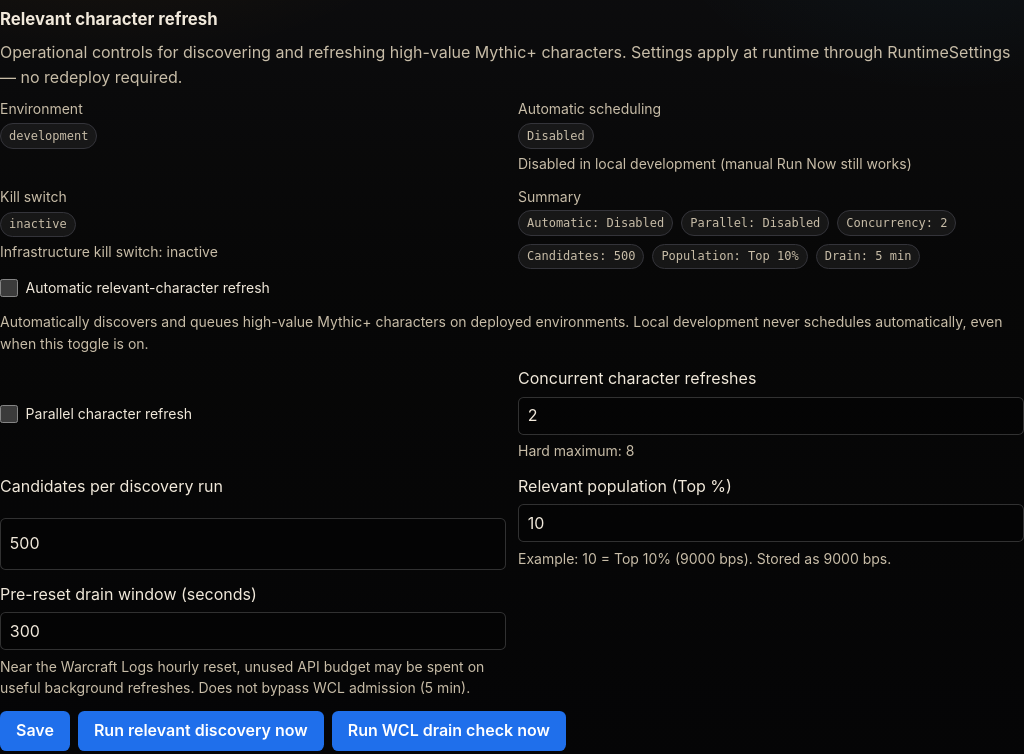
Test: RelevantCharacterRefreshPanel › queues relevant discovery now via admin Run Now
The width and height of the screenshot is (1024, 754).
(page scrolled)
Step 1. Click the button with test id "run-relevant-discovery-button" → point(201, 731), box [78,711,324,751]
(page scrolled)
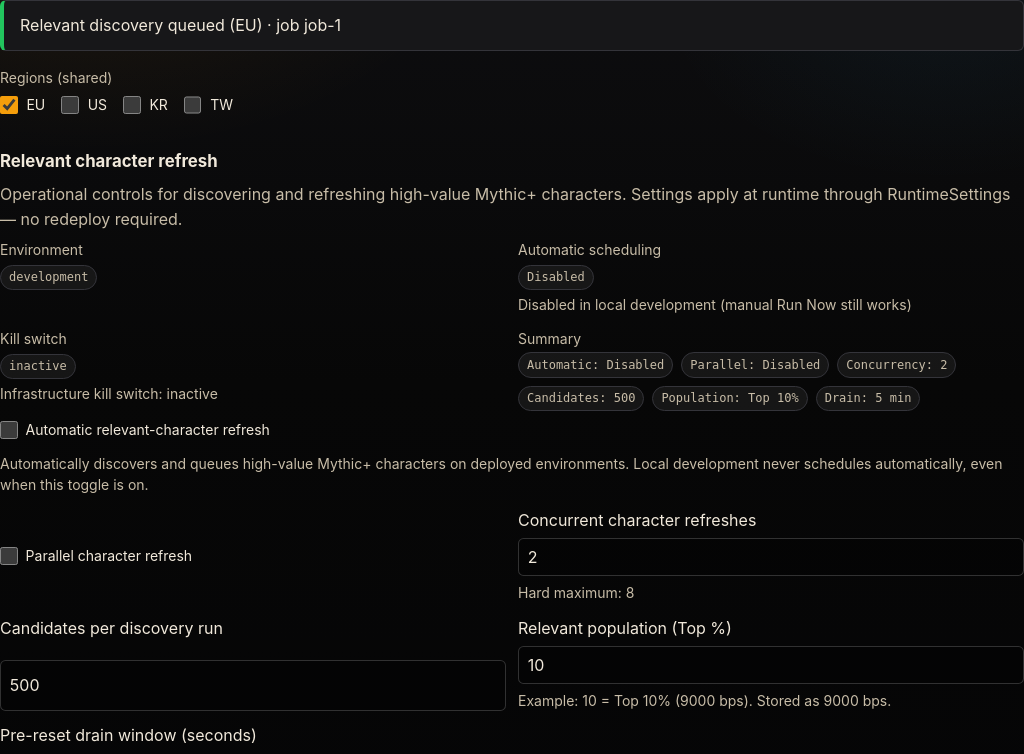
Expected: the message with test id "status-banner" shows "job-1", [20,15,341,35]
